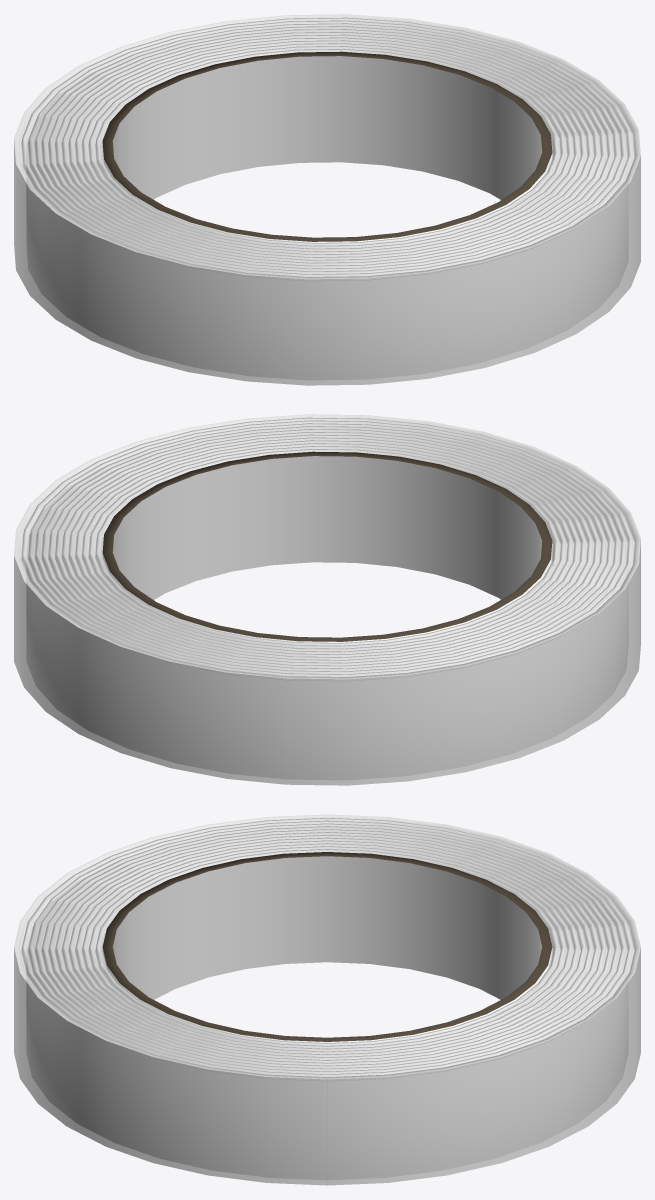
The model's file is cinta3d.glb.
3 renders of one model, top to bottom at view 1: azimuth 30°, elevation 25°; view 2: azimuth 150°, elevation 25°; view 3: azimuth 270°, elevation 25°, orthographic.
Parts seen in each view (by area): view 1: cinta, cinta4, cinta3, cinta2; view 2: cinta, cinta4, cinta3, cinta2; view 3: cinta, cinta4, cinta3, cinta2.
Part boxes in pixels (x1,y1,x2,y2): cinta: [14, 14, 640, 385]; cinta4: [26, 68, 628, 379]; cinta3: [112, 56, 542, 199]; cinta2: [102, 51, 552, 245]; cinta: [14, 414, 640, 785]; cinta4: [26, 468, 628, 779]; cinta3: [112, 456, 542, 599]; cinta2: [102, 451, 552, 645]; cinta: [14, 814, 640, 1185]; cinta4: [26, 879, 628, 1179]; cinta3: [112, 856, 542, 999]; cinta2: [102, 852, 552, 1045].
Size of the model in its own units: 5.3 by 0.9886 by 5.3.
